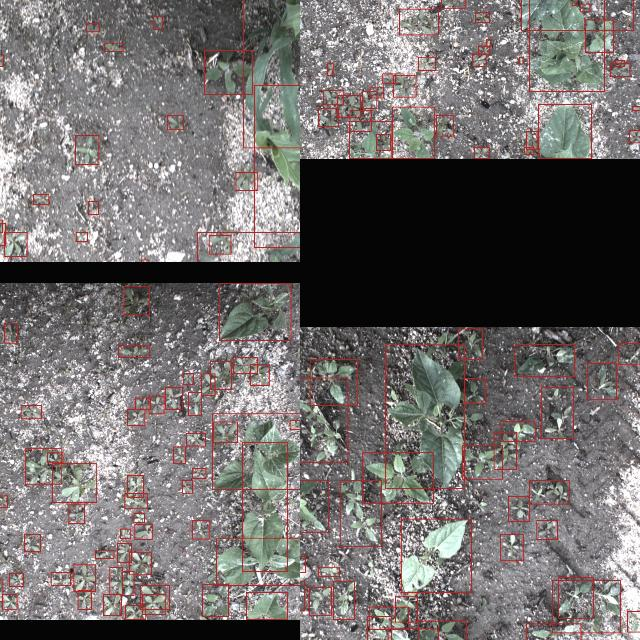crop: (384, 344, 464, 488), (253, 84, 300, 247), (528, 0, 603, 91), (211, 414, 300, 490), (242, 442, 286, 572), (400, 519, 470, 593), (215, 538, 300, 585), (220, 284, 290, 340), (521, 0, 633, 30), (197, 232, 300, 262), (538, 104, 590, 158), (246, 592, 286, 620), (386, 628, 437, 640)
weed: (300, 377, 347, 462), (551, 580, 619, 634), (362, 452, 432, 502), (339, 481, 381, 547), (309, 359, 357, 405), (392, 107, 434, 159), (204, 50, 252, 94), (514, 344, 574, 376), (52, 463, 96, 502), (541, 388, 573, 438), (348, 122, 392, 158), (300, 480, 327, 532), (462, 445, 502, 479), (558, 578, 592, 618), (24, 448, 60, 484), (586, 362, 616, 400), (398, 9, 438, 35), (584, 20, 614, 52), (529, 480, 569, 504), (418, 620, 466, 640), (492, 432, 516, 470), (525, 624, 580, 640), (368, 607, 408, 629), (332, 580, 353, 620), (202, 585, 228, 617), (458, 328, 482, 359), (500, 421, 534, 441), (74, 136, 98, 164), (140, 586, 168, 610), (124, 286, 148, 314), (73, 564, 95, 592), (308, 587, 330, 615), (500, 534, 522, 560), (395, 596, 417, 622), (210, 361, 230, 389), (367, 617, 391, 640), (4, 233, 26, 257), (129, 552, 151, 576), (508, 496, 528, 522), (336, 96, 359, 118), (392, 76, 416, 96), (141, 595, 165, 615), (213, 422, 237, 442), (464, 378, 484, 402), (618, 343, 640, 364), (350, 110, 370, 132), (536, 520, 556, 540), (208, 236, 230, 254), (235, 173, 257, 191), (250, 364, 268, 386), (164, 387, 182, 409), (103, 594, 121, 616), (233, 357, 257, 373), (108, 568, 122, 594), (318, 109, 338, 127), (435, 116, 453, 136), (118, 345, 148, 357), (127, 475, 143, 497), (322, 90, 342, 106), (192, 520, 208, 540), (68, 504, 84, 524), (200, 373, 214, 395), (124, 606, 146, 620), (124, 494, 146, 508), (626, 611, 640, 632), (188, 392, 200, 416), (121, 572, 133, 596), (134, 524, 152, 540), (116, 544, 132, 562), (148, 396, 164, 414), (126, 409, 144, 425), (24, 534, 40, 552), (77, 590, 91, 610), (50, 572, 70, 586), (20, 406, 42, 418), (167, 114, 183, 130), (417, 57, 435, 71), (609, 64, 629, 76), (4, 323, 16, 343), (376, 135, 390, 151), (362, 92, 376, 108), (2, 594, 16, 610), (186, 434, 204, 446), (173, 446, 185, 464), (440, 0, 464, 8), (134, 398, 150, 410), (526, 132, 536, 150), (471, 54, 485, 66), (9, 574, 23, 586), (317, 568, 338, 576), (32, 194, 48, 204), (46, 453, 62, 463), (95, 551, 114, 559), (104, 43, 122, 51), (628, 131, 640, 143), (88, 201, 98, 215), (474, 148, 488, 158), (475, 12, 489, 22), (191, 468, 205, 478), (370, 88, 382, 99), (181, 481, 191, 494), (152, 16, 162, 28), (382, 74, 394, 84), (182, 374, 194, 384), (85, 23, 98, 31), (76, 232, 86, 242), (133, 513, 143, 523), (120, 529, 130, 539), (289, 419, 300, 428), (0, 224, 4, 246), (478, 46, 488, 54), (580, 4, 590, 12), (0, 496, 6, 508), (523, 148, 533, 154), (614, 60, 624, 66), (328, 64, 332, 76), (0, 54, 3, 66), (518, 58, 524, 64), (631, 107, 640, 111), (571, 0, 577, 5), (486, 40, 490, 46)
